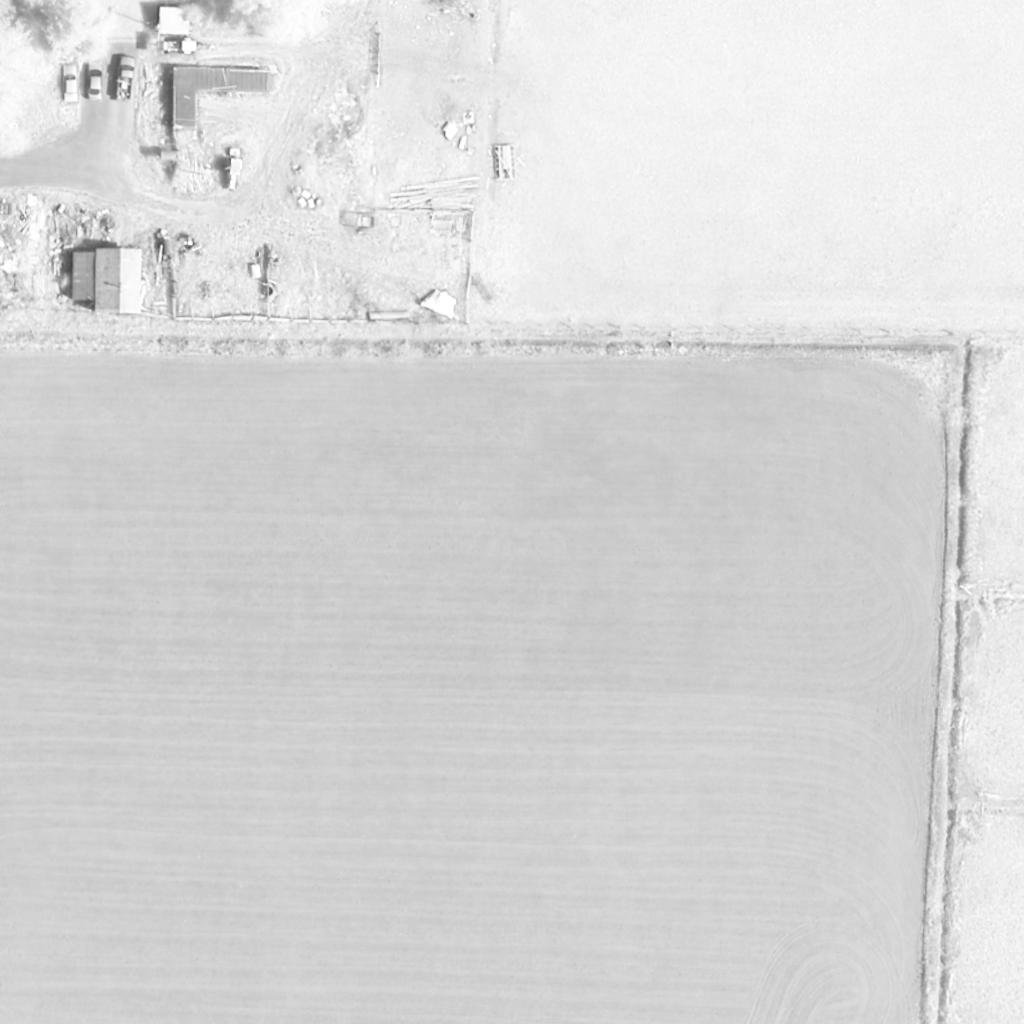vehicle: (218, 146, 252, 194), (112, 55, 138, 103), (56, 61, 80, 103), (86, 62, 106, 100)
